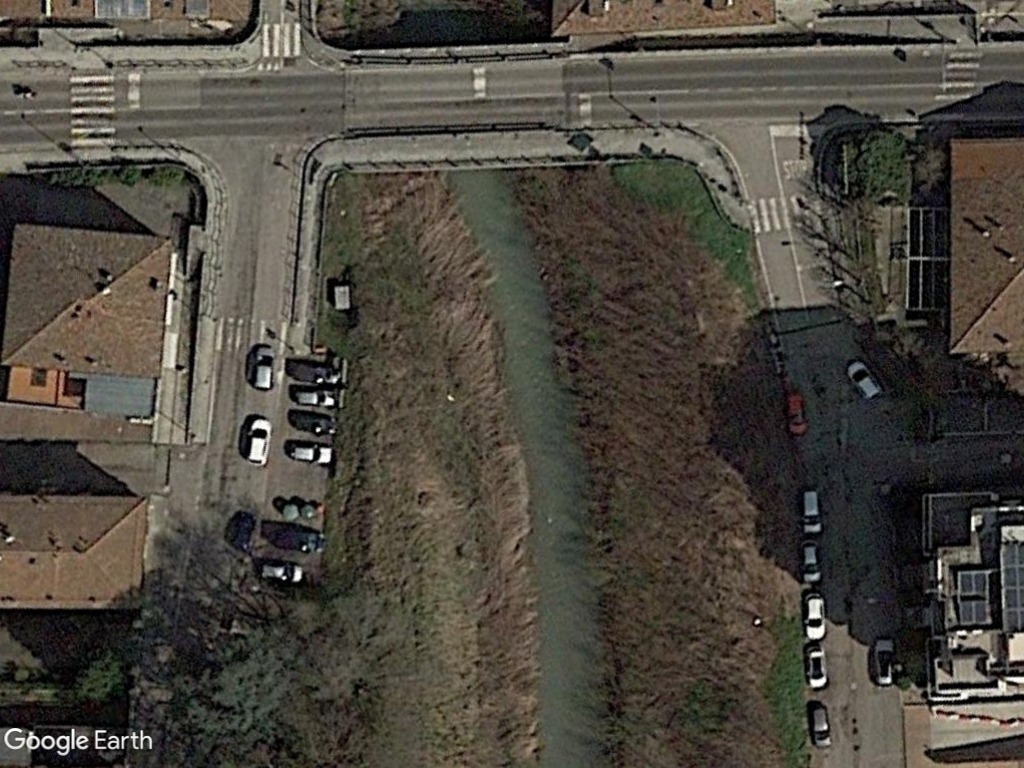car: (840, 355, 886, 404), (242, 415, 274, 472), (781, 388, 813, 441), (869, 633, 898, 691), (800, 589, 831, 643), (250, 341, 280, 396), (285, 437, 337, 468), (805, 703, 837, 753), (289, 383, 344, 412), (802, 644, 833, 694), (797, 486, 826, 539), (796, 540, 825, 587)
